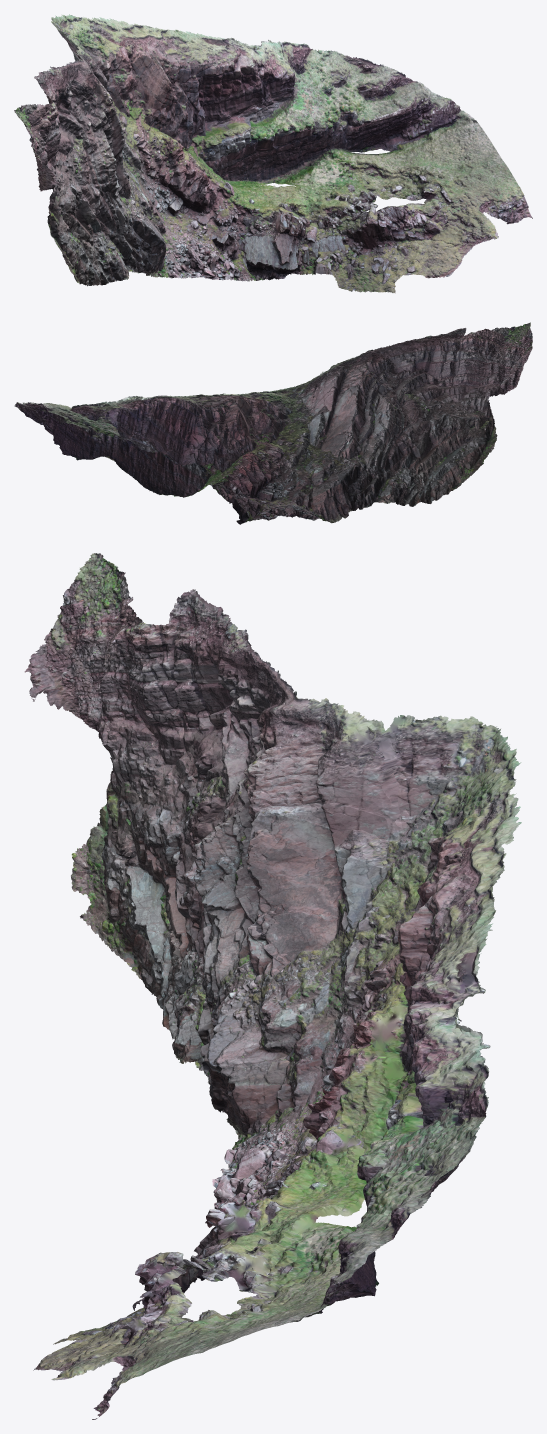
Rendered from st_anns_head_pembrokeshire.glb.
3 views of the same model, one above another, from view 1: azimuth 30°, elevation 25°; view 2: azimuth 150°, elevation 25°; view 3: azimuth 270°, elevation 25° (orthographic). The views are drawn at different scales.
Visible parts, largest first — view 1: model; view 2: model; view 3: model.
Part boxes in pixels (x1=…): model: x1=14, y1=14, x2=532, y2=293; model: x1=14, y1=322, x2=532, y2=524; model: x1=24, y1=553, x2=521, y2=1419.
Size of the model in its own units: 73.87 by 36.58 by 34.37.
8 materials, 8 textured.
